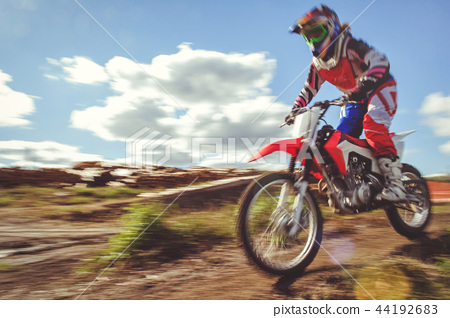helmet: (290, 1, 342, 51)
